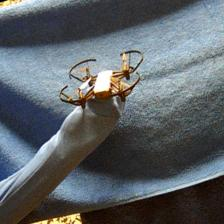drone: (58, 50, 146, 109)
